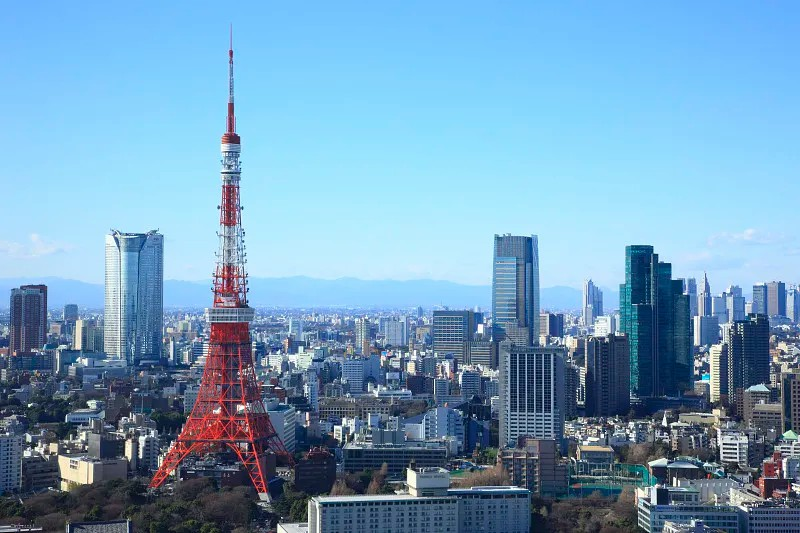Tokyo: (141, 18, 295, 511)
